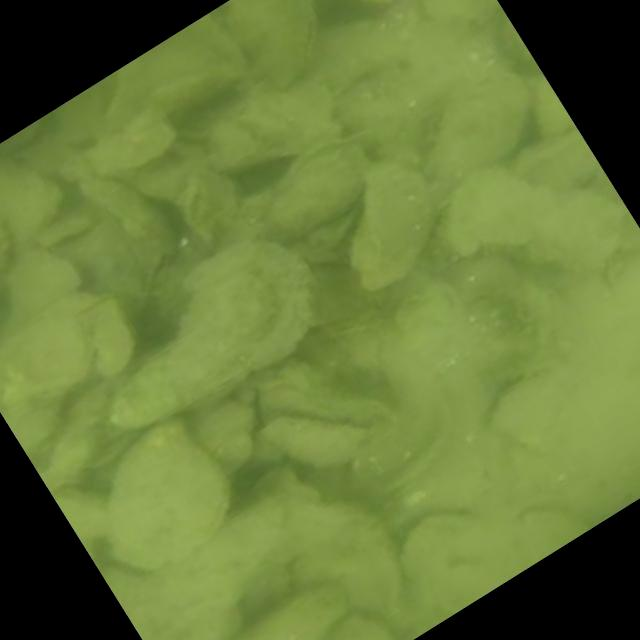Oyster-Closed: (100, 233, 316, 427), (101, 407, 234, 572), (0, 294, 137, 388), (416, 72, 531, 183), (201, 84, 340, 172), (347, 170, 429, 300), (264, 145, 366, 243), (224, 0, 320, 92), (0, 152, 65, 253), (232, 586, 346, 640), (146, 66, 247, 122), (257, 416, 364, 467), (1, 250, 78, 319), (91, 306, 135, 376)
